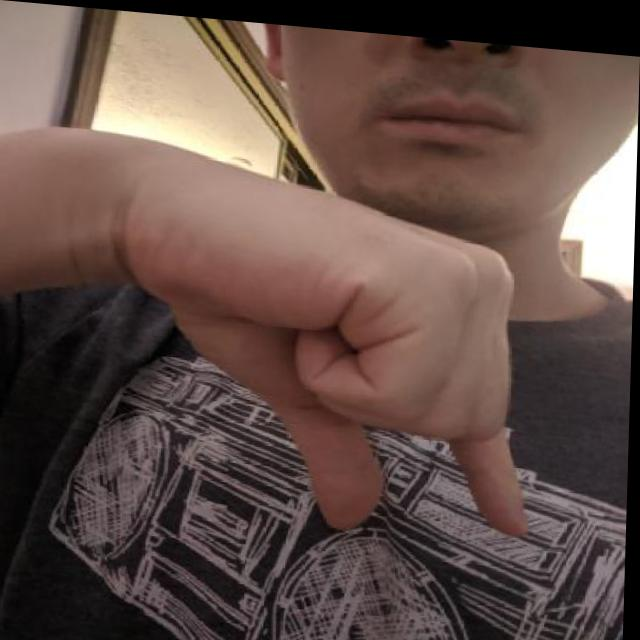Q: (124, 131, 549, 545)
